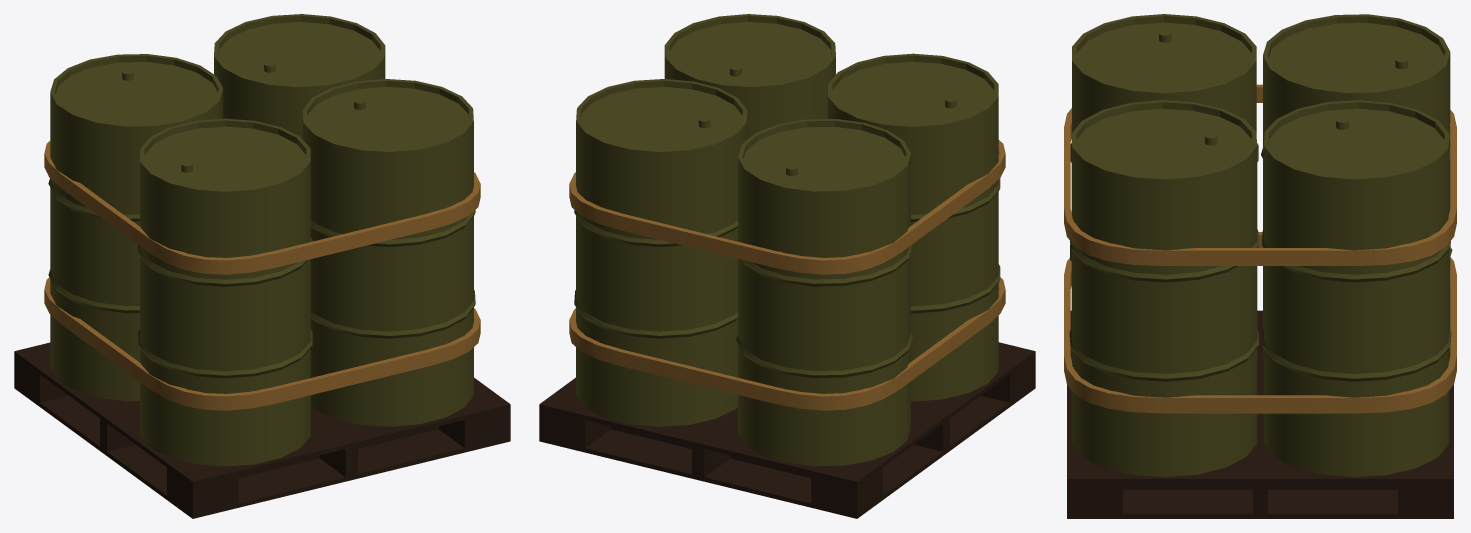
The model's file is SM_BarrelPack(Exploded).fbx.
3 views of the same model, side by side, from view 1: azimuth 30°, elevation 25°; view 2: azimuth 150°, elevation 25°; view 3: azimuth 270°, elevation 25° (orthographic). The views are drawn at different scales.
Visible parts, largest first — view 1: barrel3, barrel4, barrel002, pallet, barrel2, band1, band2; view 2: barrel002, barrel2, barrel3, pallet, barrel4, band1, band2; view 3: barrel2, barrel4, pallet, barrel002, barrel3, band2, band1.
Boxes of the visible parts, box(x1,y1,x2,y2) form: barrel3: box(138, 118, 312, 466); barrel4: box(302, 79, 475, 426); barrel002: box(48, 54, 223, 401); pallet: box(14, 342, 510, 518); barrel2: box(214, 14, 385, 138); band1: box(44, 141, 480, 274); band2: box(44, 277, 480, 410); barrel002: box(736, 119, 912, 466); barrel2: box(574, 79, 747, 426); barrel3: box(828, 53, 1000, 401); pallet: box(539, 342, 1035, 518); barrel4: box(664, 14, 835, 139); band1: box(569, 140, 1005, 274); band2: box(569, 277, 1005, 410); barrel2: box(1261, 100, 1451, 477); barrel4: box(1069, 100, 1258, 477); pallet: box(1067, 310, 1453, 518); barrel002: box(1261, 14, 1452, 354); barrel3: box(1070, 14, 1258, 261); band2: box(1064, 232, 1456, 413); band1: box(1064, 84, 1456, 265).
Size of the model in its own units: 65.5 by 61.48 by 64.64.
